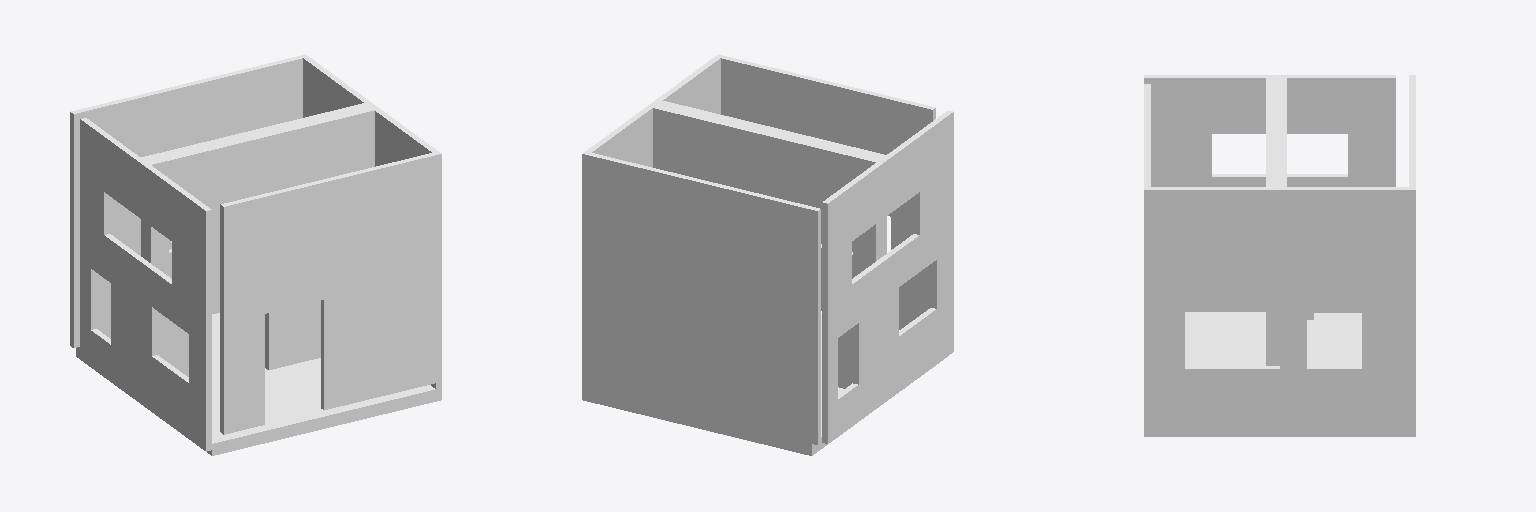
Rendered from roomPrueba.obj.
The picture shows the model from 3 angles: view 1: azimuth 30°, elevation 25°; view 2: azimuth 150°, elevation 25°; view 3: azimuth 270°, elevation 25°; orthographic projection.
Parts seen in each view (by area): view 1: object 1; view 2: object 1; view 3: object 1.
Boxes of the visible parts, x1=… form: object 1: x1=70, y1=54, x2=441, y2=455; object 1: x1=582, y1=54, x2=953, y2=455; object 1: x1=1144, y1=75, x2=1415, y2=436.
Size of the model in its own units: 4 by 4 by 4.